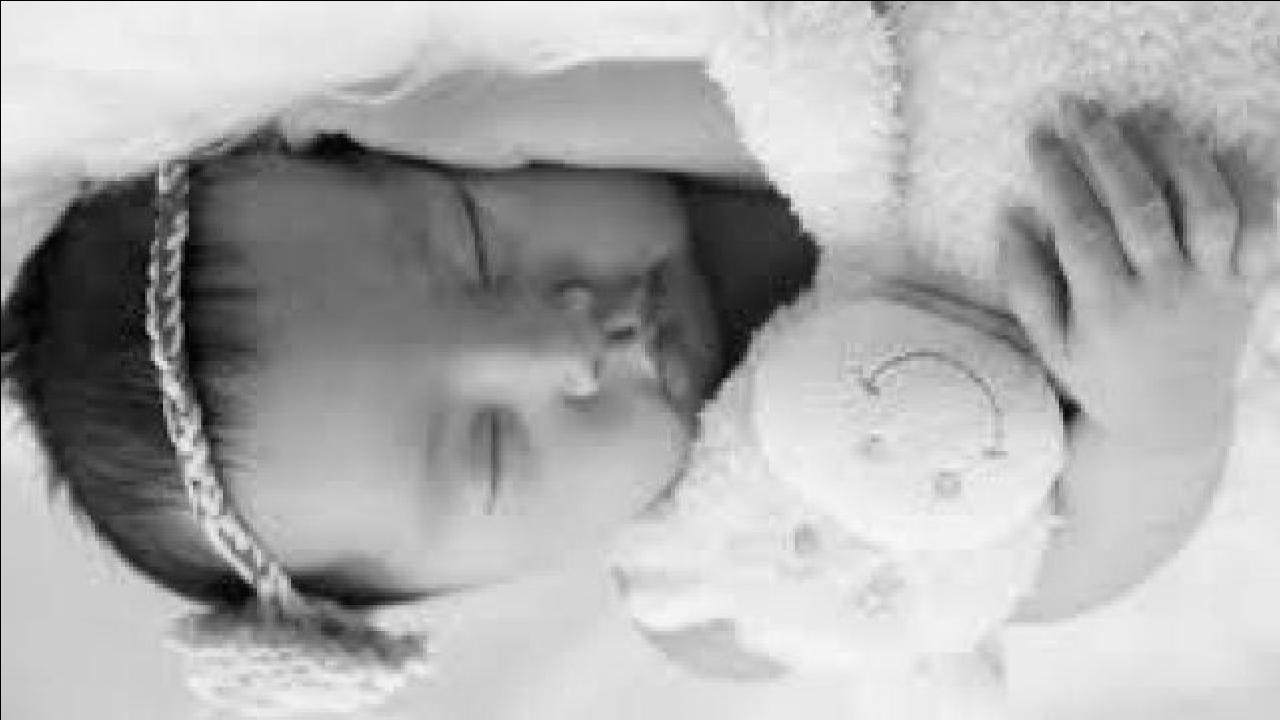hand: (994, 92, 1280, 415), (279, 70, 526, 170)
